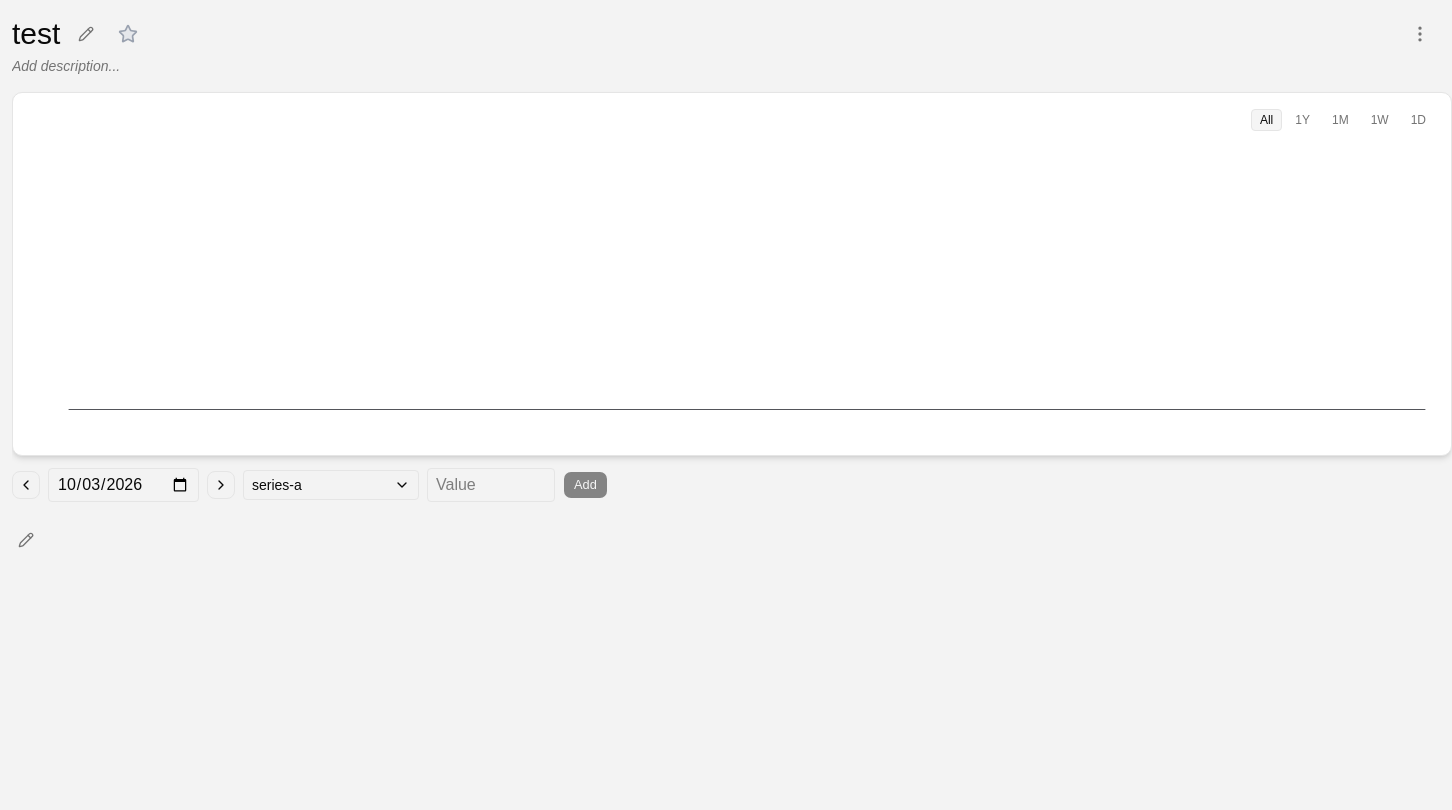
Scenario: TrackerDetailView › cancels a series rename without patching
Click the button named "tracker menu".
click(1420, 34)  # box [1404, 18, 1436, 50]
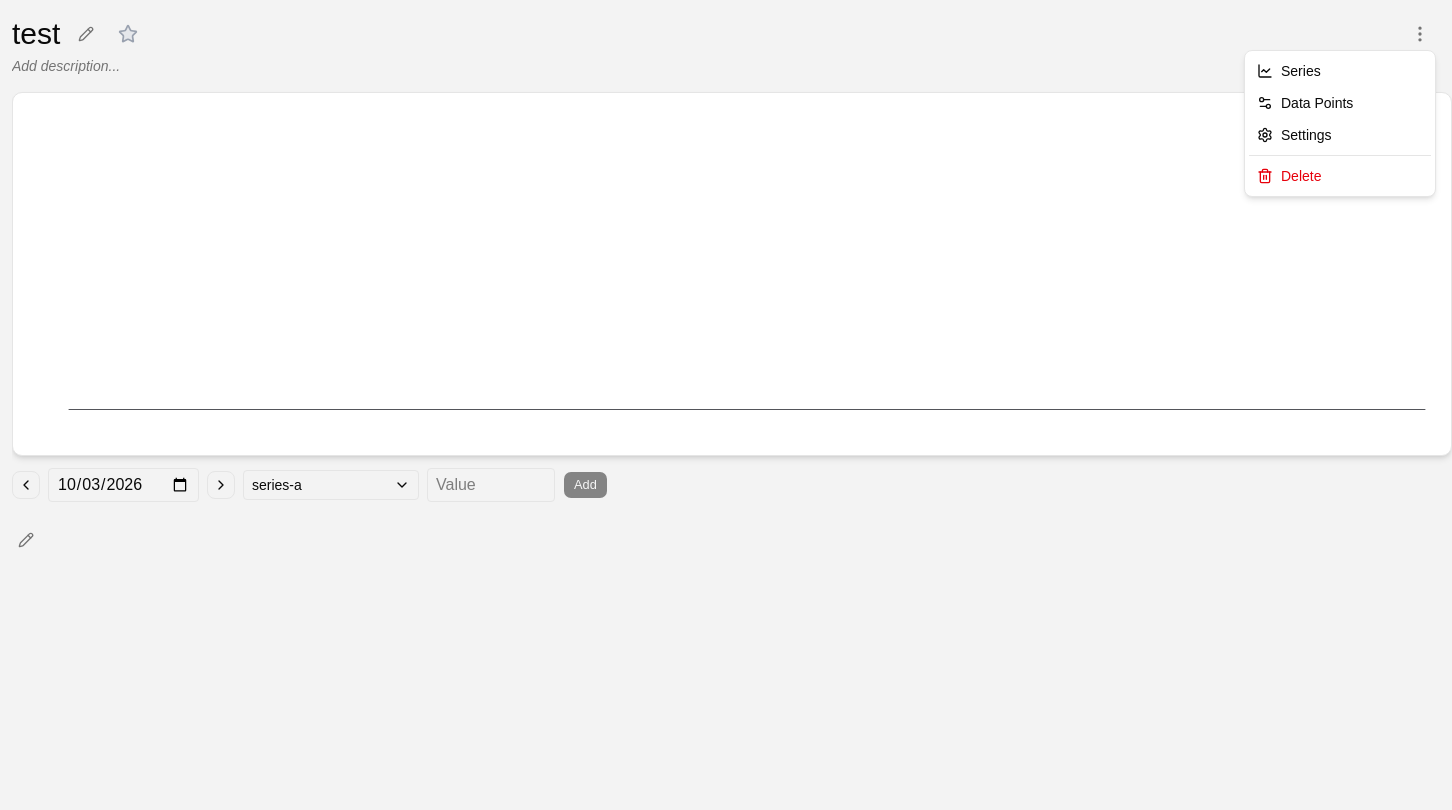
Click the menu item "Series".
click(1289, 71)  # box [1257, 63, 1321, 79]
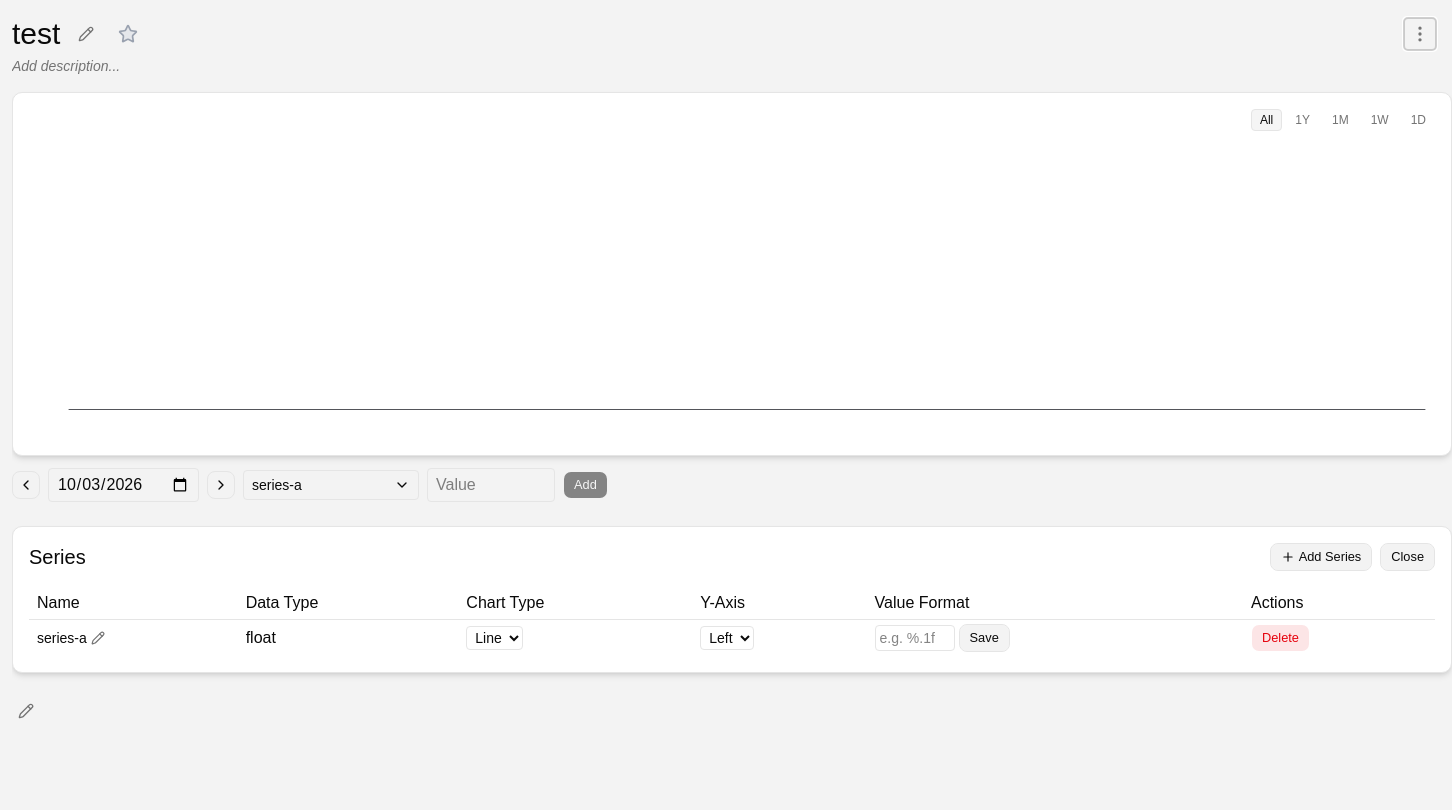
Click the button named "rename series series-a".
click(98, 638)  # box [91, 630, 105, 644]
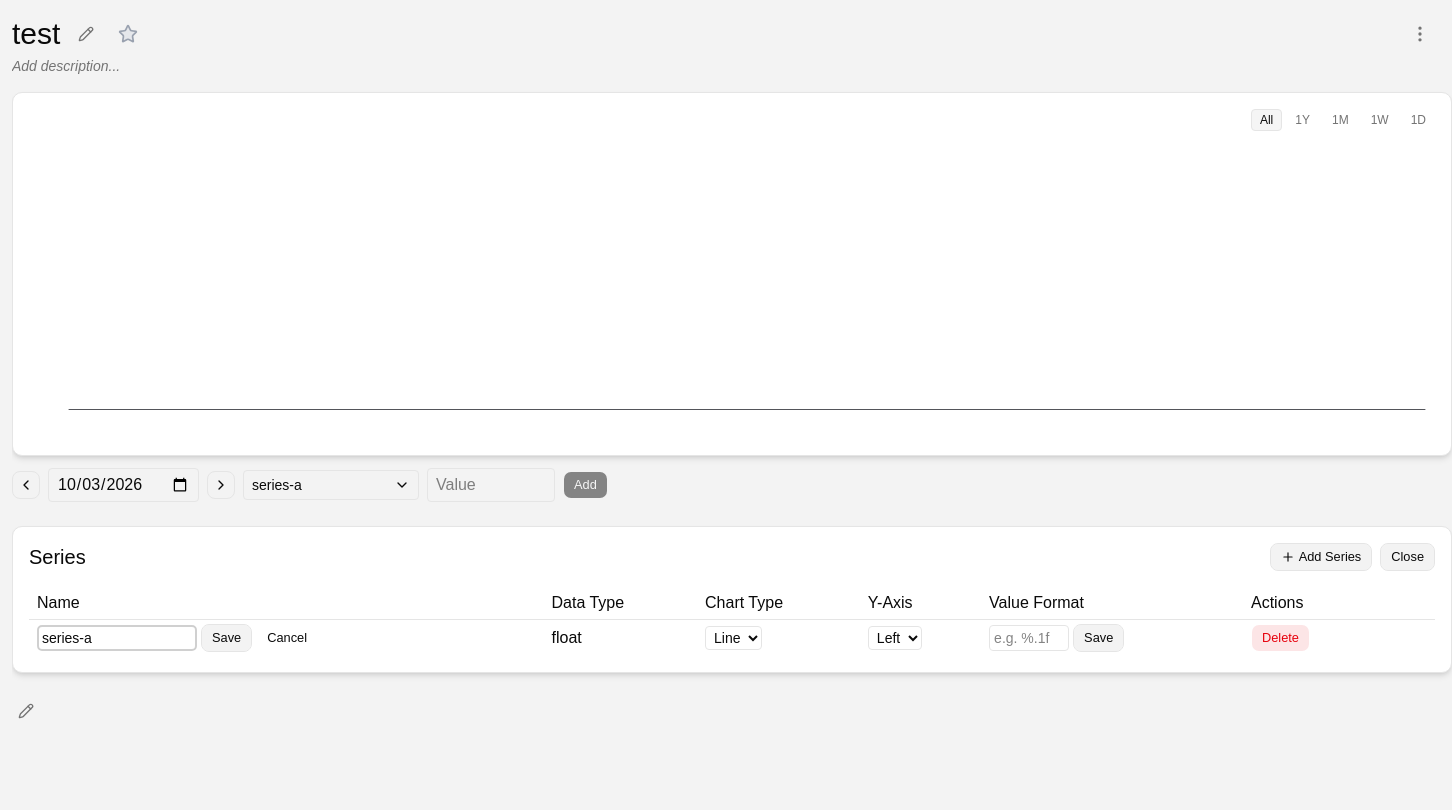
Replace the text in the field named "rename series series-a" with "never-renamed" at (117, 638), box [37, 624, 197, 650]
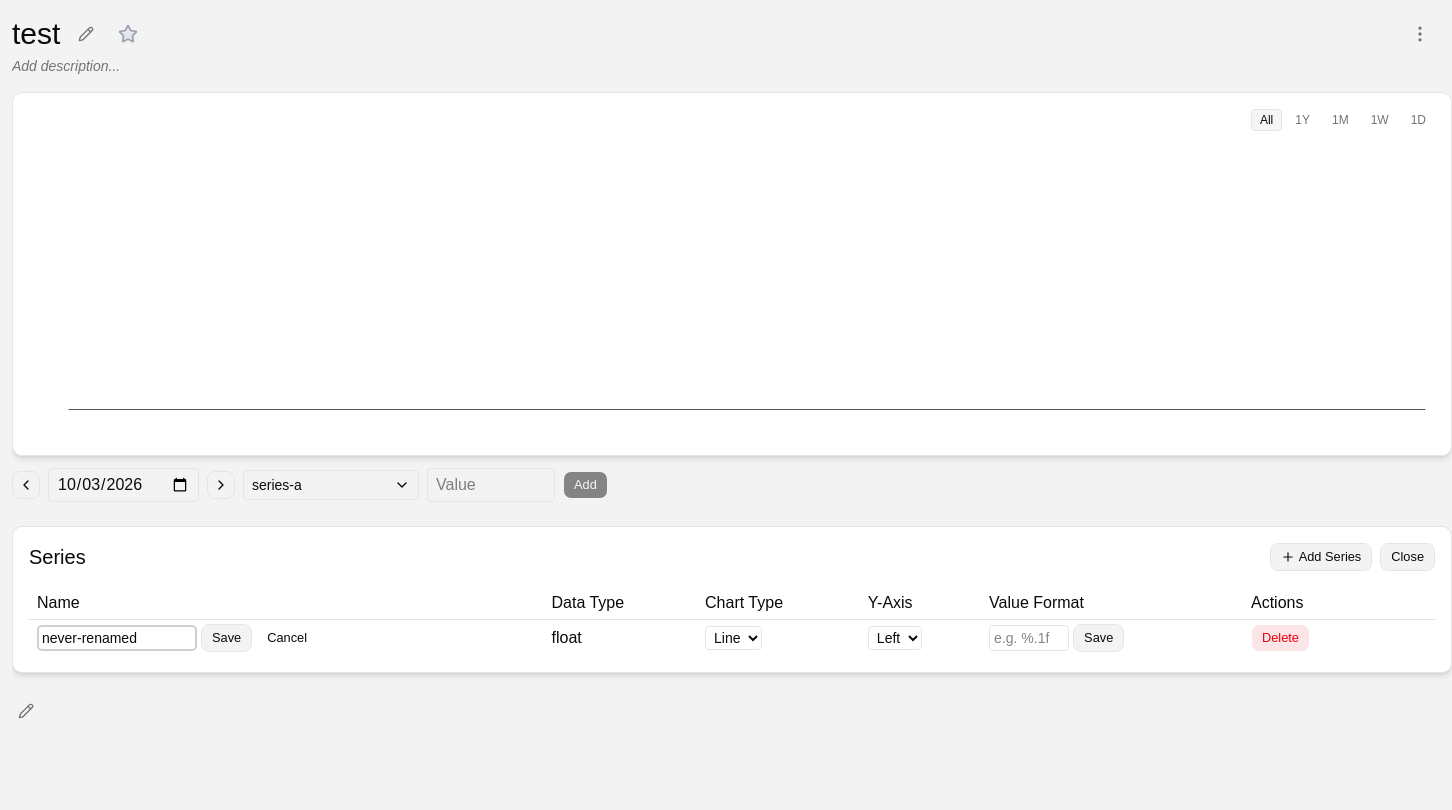
Click the button "Cancel".
click(287, 638)  # box [256, 624, 318, 652]
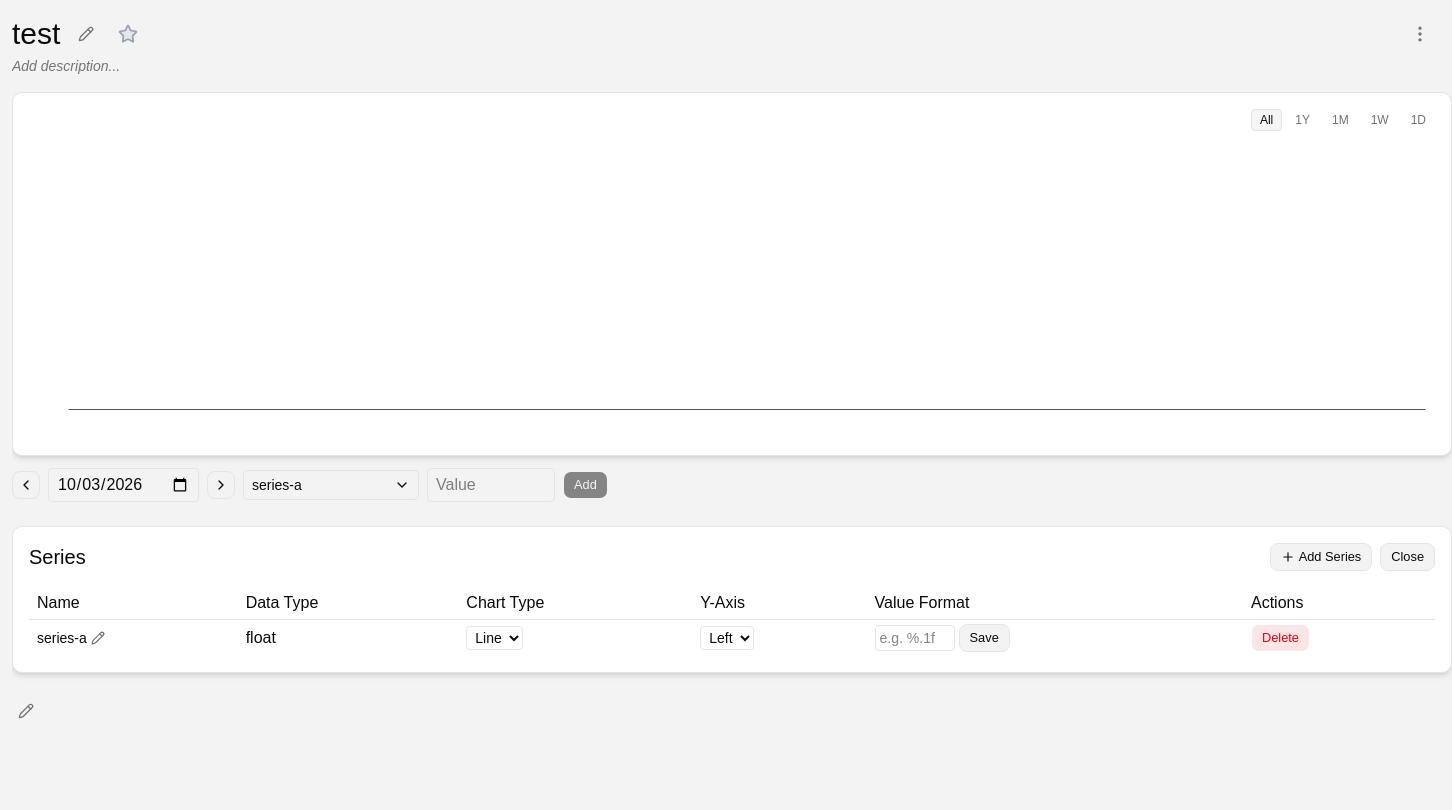
Expected: the text "never-renamed" is not shown
Expected: the text "series-a" next to "float" is shown, [37, 630, 87, 646]
